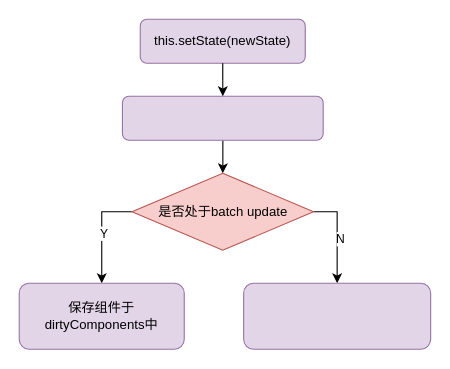
The diagram is 450 pixels wide and 369 high, and some of its shapes have lost their labels. Here are the shapes that lost their labels. From the top down, the centre of each, then its label:
the point at 222,117: newState 存入 pending 队列
the point at 337,315: 遍历所有dirtyComponent 调用 updateComponent 更新pending state or props
